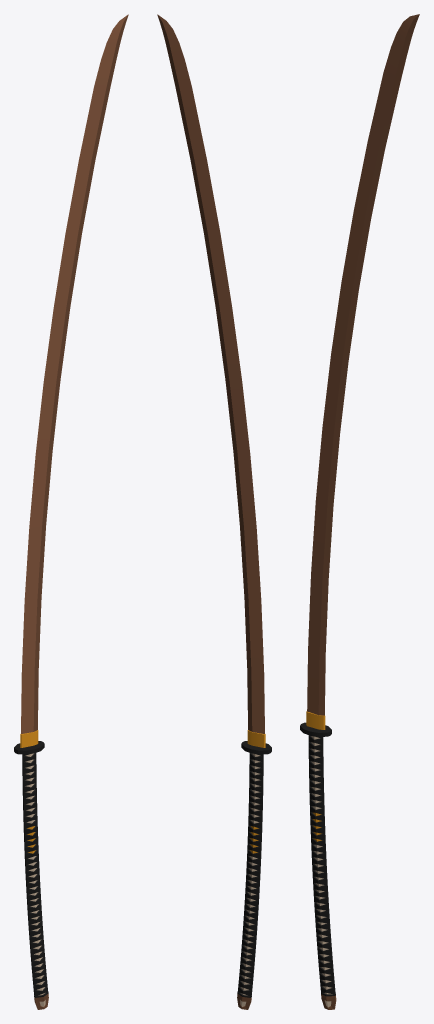
The model's file is SM_Sword12_Odachi_4Bronze.fbx.
3 views of the same model, side by side, from view 1: azimuth 30°, elevation 25°; view 2: azimuth 150°, elevation 25°; view 3: azimuth 330°, elevation 25° (orthographic). The views are drawn at different scales.
Visible parts, largest first — view 1: Cube.499, Torus.052; view 2: Cube.499, Torus.052; view 3: Cube.499, Torus.052.
Boxes of the visible parts, bbox=[...] form: Cube.499: bbox=[21, 14, 128, 733]; Torus.052: bbox=[22, 753, 48, 996]; Cube.499: bbox=[157, 14, 264, 733]; Torus.052: bbox=[237, 753, 263, 996]; Cube.499: bbox=[307, 14, 419, 715]; Torus.052: bbox=[308, 735, 335, 994].
Size of the model in its own units: 0.2184 by 1.79 by 0.0342.
